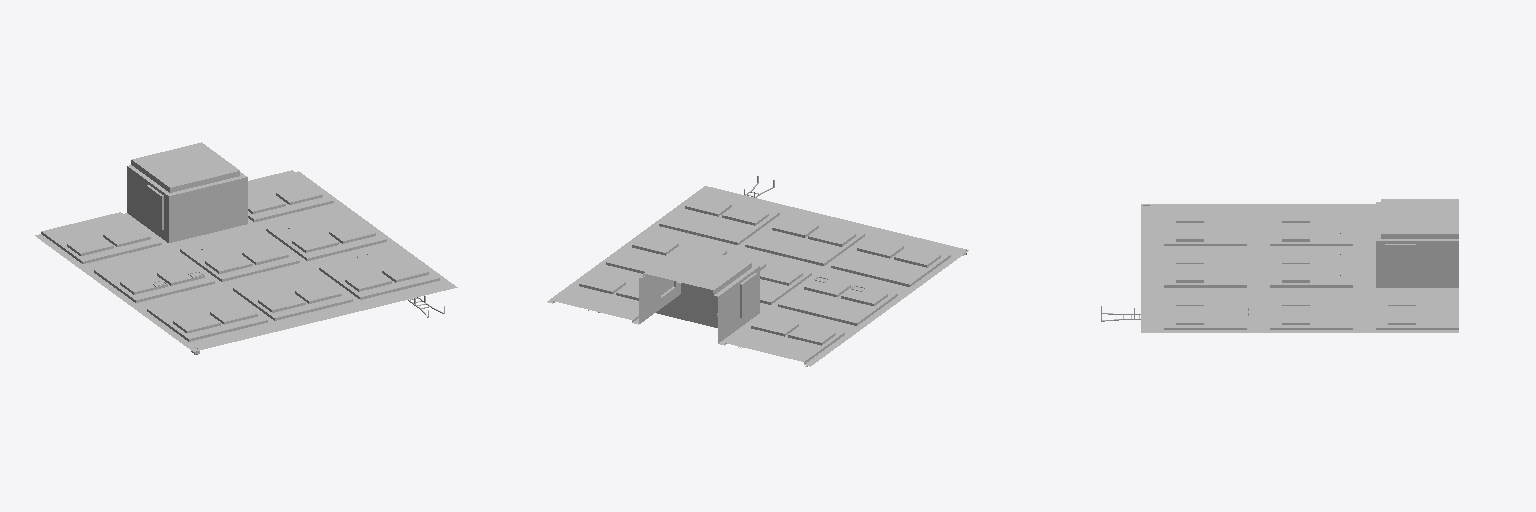
Rendered from BuildingWallA.obj.
3 views of the same model, side by side, from view 1: azimuth 30°, elevation 25°; view 2: azimuth 150°, elevation 25°; view 3: azimuth 270°, elevation 25° (orthographic).
Parts seen in each view (by area): view 1: BuildingWallA; view 2: BuildingWallA; view 3: BuildingWallA.
Part boxes in pixels (x1,y1,x2,y2): BuildingWallA: (35, 142, 457, 354); BuildingWallA: (547, 176, 968, 366); BuildingWallA: (1101, 199, 1458, 332).
Size of the model in its own units: 1376 by 393 by 1612.